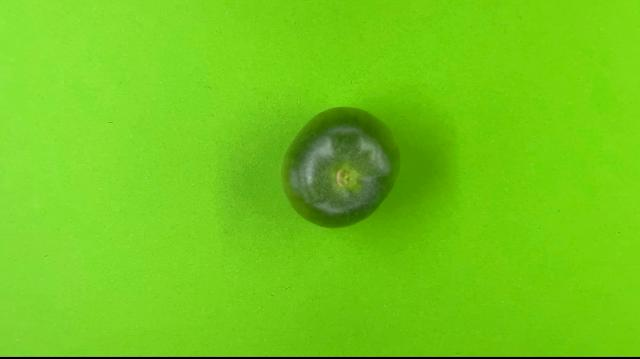Fruit Maturation: (278, 104, 403, 231)
